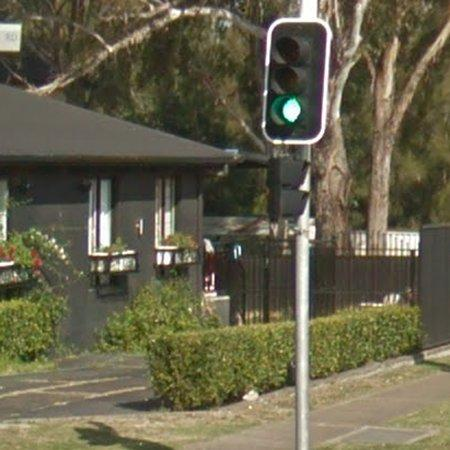traffic lights: (263, 18, 333, 144)
